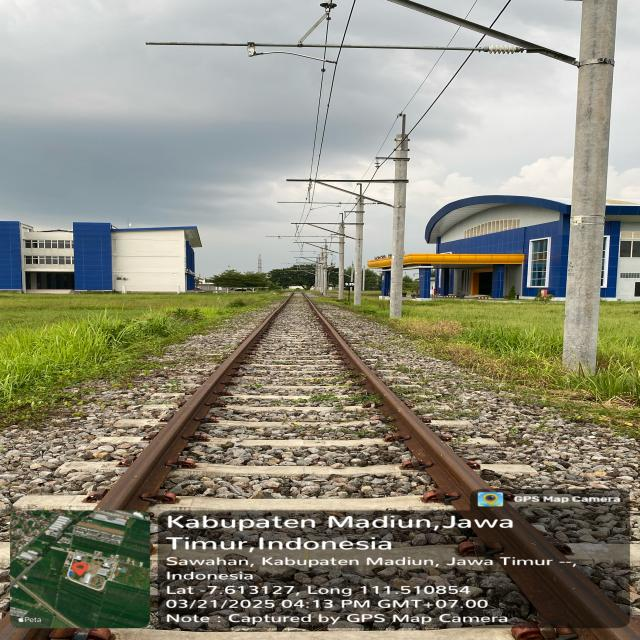rail-detection: (308, 300, 640, 640), (95, 298, 291, 510)
